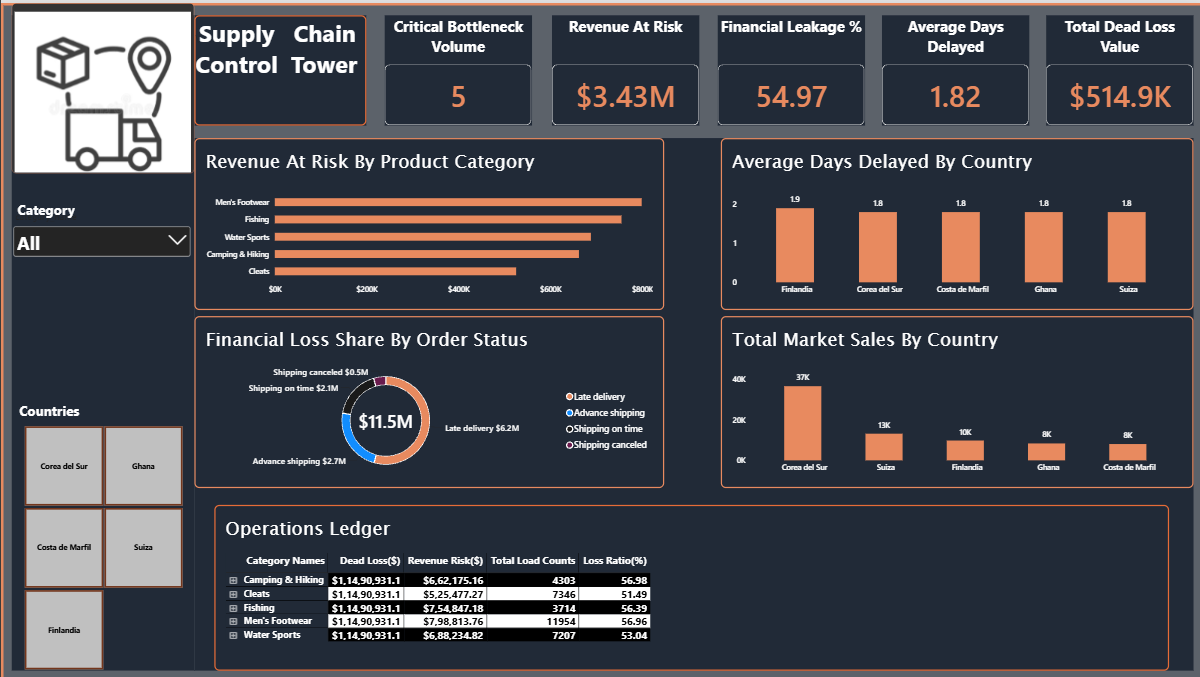

The page's visual inventory and layout, read from the dashboard file:
{"tool":"powerbi","page":{"name":"Page 1","canvas":[1920,1080],"ordinal":0},"visuals":[{"type":"shape","box":[0,0,1918.8,1080.9],"z":0},{"type":"shape","box":[17.1,19.6,291.3,1045.2],"z":1000},{"type":"shape","box":[308.4,19.6,274.1,176.2],"z":2000},{"type":"shape","box":[1143.1,19.6,235,176.2],"z":3000},{"type":"shape","box":[878.7,19.6,235,176.2],"z":4000},{"type":"shape","box":[611.9,19.6,235,176.2],"z":5000},{"type":"shape","box":[1666.9,19.6,235,176.2],"z":6000},{"type":"shape","box":[1405,19.6,235,176.2],"z":7000},{"type":"textbox","box":[308.4,19.6,274.1,176.2],"z":8000},{"type":"textbox","box":[611.9,19.6,235,88.1],"z":9000},{"type":"textbox","box":[878.7,19.6,235,31.8],"z":10000},{"type":"textbox","box":[1143.1,19.6,235,176.2],"z":11000},{"type":"textbox","box":[1666.9,19.6,235,176.2],"z":12000},{"type":"textbox","box":[1405,19.6,235,176.2],"z":13000},{"type":"cardVisual","fields":{"Data":["Count(Revenue_At_Risk_Data.total_shipments)"]},"box":[611.9,97.9,235,97.9],"z":14000},{"type":"cardVisual","fields":{"Data":["Min(Order_Dead_Loss_Data.capital_value_impact)"]},"box":[1666.9,97.9,235,97.9],"z":15000},{"type":"cardVisual","fields":{"Data":["Avg(Country_Delay_Data.avg_days_behind_schedule)"]},"box":[1405,97.9,235,97.9],"z":16000},{"type":"cardVisual","fields":{"Data":["Avg(Revenue_At_Risk_Data.leakage_percentage)"]},"box":[1143.1,97.9,235,97.9],"z":17000},{"type":"cardVisual","fields":{"Data":["Sum(Revenue_At_Risk_Data.revenue_at_risk)"]},"box":[878.7,97.9,235,97.9],"z":18000},{"type":"shape","box":[308.4,215.4,1593.5,849.4],"z":19000},{"type":"clusteredBarChart","title":"Revenue At Risk By Product Category","fields":{"Category":["Revenue_At_Risk_Data.category_name"],"Y":["Avg(Revenue_At_Risk_Data.revenue_at_risk)"]},"box":[308.4,215.4,749,274.1],"z":20000},{"type":"donutChart","title":"Financial Loss Share By Order Status","fields":{"Category":["Order_Dead_Loss_Data.delivery_status"],"Y":["Sum(Order_Dead_Loss_Data.capital_value_impact)"]},"box":[309.2,500.1,749,274.1],"z":21000},{"type":"clusteredColumnChart","title":"Average Days Delayed By Country","fields":{"Category":["Country_Delay_Data.destination_country"],"Y":["Sum(Country_Delay_Data.avg_days_behind_schedule)"]},"box":[1148,215.4,753.9,274.1],"z":22000},{"type":"clusteredColumnChart","title":"Total Market Sales By Country","fields":{"Category":["Country_Delay_Data.destination_country"],"Y":["Sum(Country_Delay_Data.total_market_sales)"]},"box":[1148,500.1,753.9,274.1],"z":23000},{"type":"pivotTable","title":"Operations Ledger","fields":{"Rows":["Revenue_At_Risk_Data.category_name","Country_Delay_Data.destination_country"],"Values":["Sum(Order_Dead_Loss_Data.capital_value_impact)","Sum(Revenue_At_Risk_Data.revenue_at_risk)","Sum(Revenue_At_Risk_Data.total_shipments)","Avg(Revenue_At_Risk_Data.leakage_percentage)"]},"box":[340.2,800.4,1522.5,264.4],"z":24000},{"type":"slicer","title":"Category","fields":{"Values":["Revenue_At_Risk_Data.category_name"]},"box":[15.9,333.9,292.6,108.1],"z":25000},{"type":"actionButton","box":[17.1,0,291.3,271.7],"z":26000},{"type":"textbox","box":[15.9,314.8,292.6,38.2],"z":27000},{"type":"slicer","title":"  Countries","fields":{"Values":["Country_Delay_Data.destination_country"]},"box":[17.1,673.1,291.3,391.6],"z":28000},{"type":"textbox","box":[17.1,636.4,291.3,36.7],"z":29000}]}

Visuals, with their boxes in screenshot pixels (x1, y1, x2, y2), scaled from the page's 1920x1080 canvas onto the 1200x677 screenshot:
shape: [left=0, top=0, right=1199, bottom=676]
shape: [left=11, top=12, right=193, bottom=667]
shape: [left=193, top=12, right=364, bottom=123]
shape: [left=714, top=12, right=861, bottom=123]
shape: [left=549, top=12, right=696, bottom=123]
shape: [left=382, top=12, right=529, bottom=123]
shape: [left=1042, top=12, right=1189, bottom=123]
shape: [left=878, top=12, right=1025, bottom=123]
textbox: [left=193, top=12, right=364, bottom=123]
textbox: [left=382, top=12, right=529, bottom=68]
textbox: [left=549, top=12, right=696, bottom=32]
textbox: [left=714, top=12, right=861, bottom=123]
textbox: [left=1042, top=12, right=1189, bottom=123]
textbox: [left=878, top=12, right=1025, bottom=123]
cardVisual - Count(Revenue_At_Risk_Data.total_shipments): [left=382, top=61, right=529, bottom=123]
cardVisual - Min(Order_Dead_Loss_Data.capital_value_impact): [left=1042, top=61, right=1189, bottom=123]
cardVisual - Avg(Country_Delay_Data.avg_days_behind_schedule): [left=878, top=61, right=1025, bottom=123]
cardVisual - Avg(Revenue_At_Risk_Data.leakage_percentage): [left=714, top=61, right=861, bottom=123]
cardVisual - Sum(Revenue_At_Risk_Data.revenue_at_risk): [left=549, top=61, right=696, bottom=123]
shape: [left=193, top=135, right=1189, bottom=667]
"Revenue At Risk By Product Category" clusteredBarChart: [left=193, top=135, right=661, bottom=307]
"Financial Loss Share By Order Status" donutChart: [left=193, top=313, right=661, bottom=485]
"Average Days Delayed By Country" clusteredColumnChart: [left=718, top=135, right=1189, bottom=307]
"Total Market Sales By Country" clusteredColumnChart: [left=718, top=313, right=1189, bottom=485]
"Operations Ledger" pivotTable: [left=213, top=502, right=1164, bottom=667]
"Category" slicer: [left=10, top=209, right=193, bottom=277]
actionButton: [left=11, top=0, right=193, bottom=170]
textbox: [left=10, top=197, right=193, bottom=221]
"  Countries" slicer: [left=11, top=422, right=193, bottom=667]
textbox: [left=11, top=399, right=193, bottom=422]
